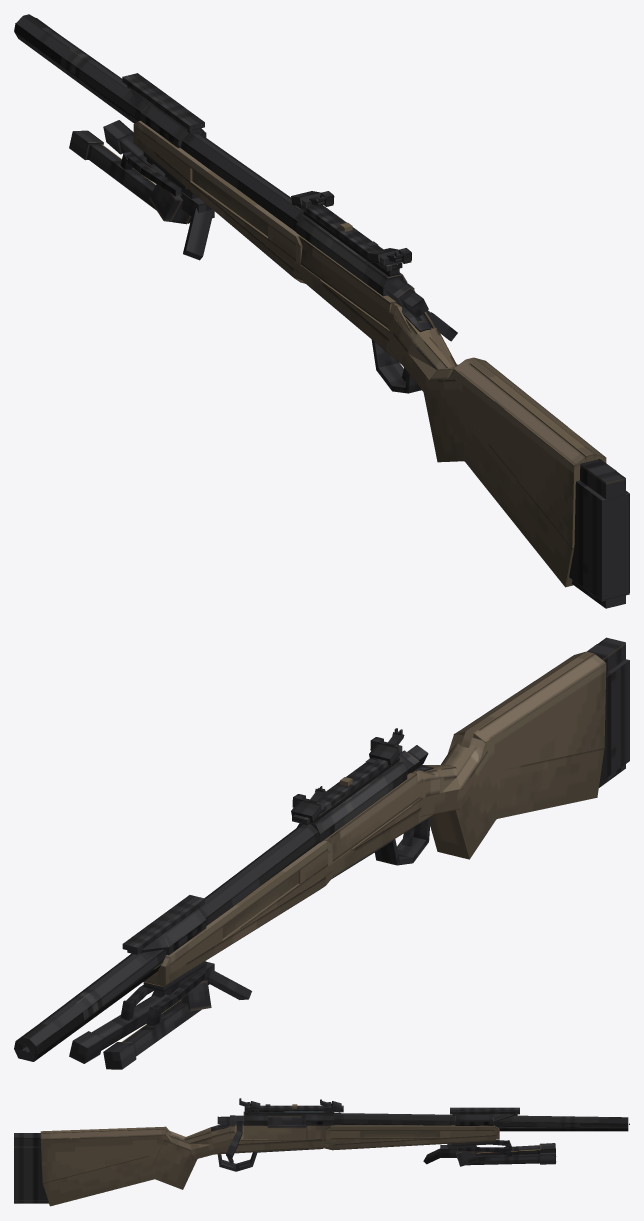
3 views of the same model, one above another, from view 1: azimuth 30°, elevation 25°; view 2: azimuth 150°, elevation 25°; view 3: azimuth 270°, elevation 25° (orthographic). The views are drawn at different scales.
Parts seen in each view (by area): view 1: gun, ironsights; view 2: gun, ironsights; view 3: gun, bolt1, ironsights, bolt2.
Part boxes in pixels (bbox=[...]): gun: bbox=[14, 14, 629, 608]; ironsights: bbox=[291, 191, 411, 266]; gun: bbox=[14, 637, 629, 1069]; ironsights: bbox=[291, 728, 404, 822]; gun: bbox=[14, 1105, 628, 1206]; bolt1: bbox=[217, 1115, 305, 1125]; ironsights: bbox=[239, 1098, 341, 1113]; bolt2: bbox=[226, 1115, 243, 1157].
Bounding box in the file's own units: 63.77 × 147 × 797.
